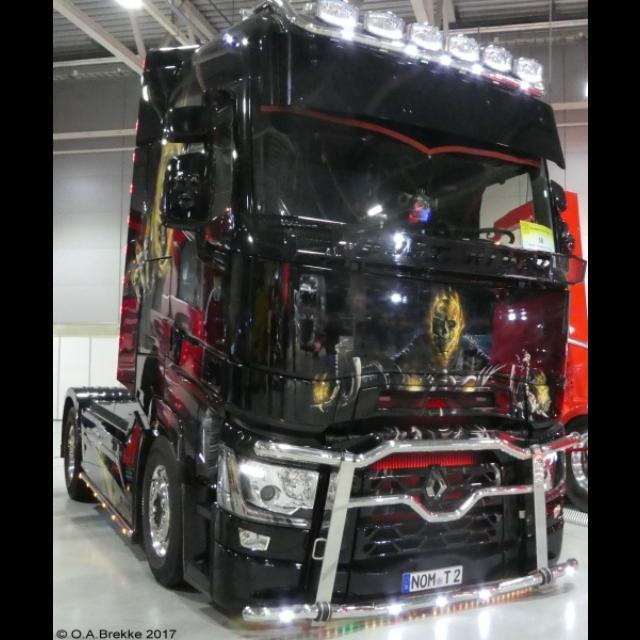license-plates: (403, 568, 464, 594)
